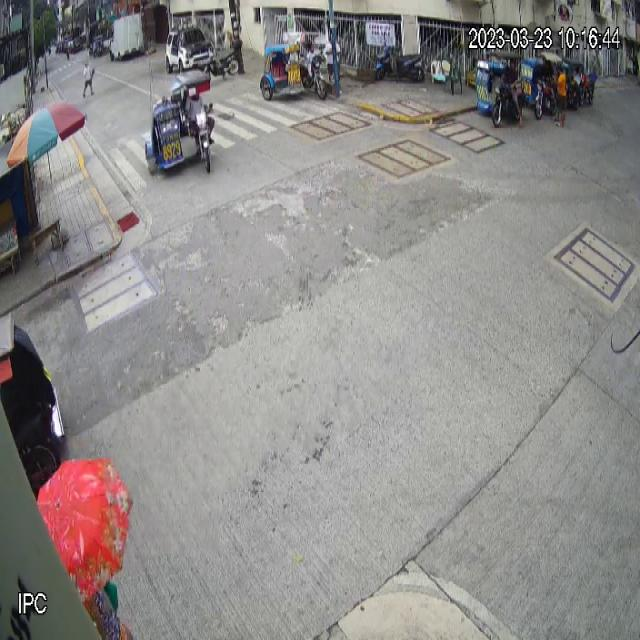Tricycle: (145, 69, 212, 174), (260, 30, 329, 102), (476, 52, 524, 126)
